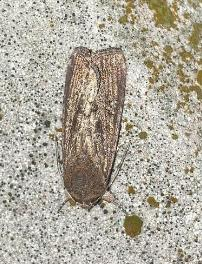army worm adult: (59, 44, 129, 217)
